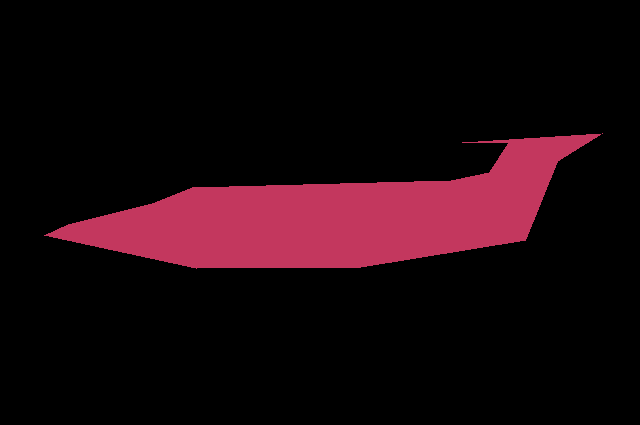Airplane: (44, 133, 603, 269)
